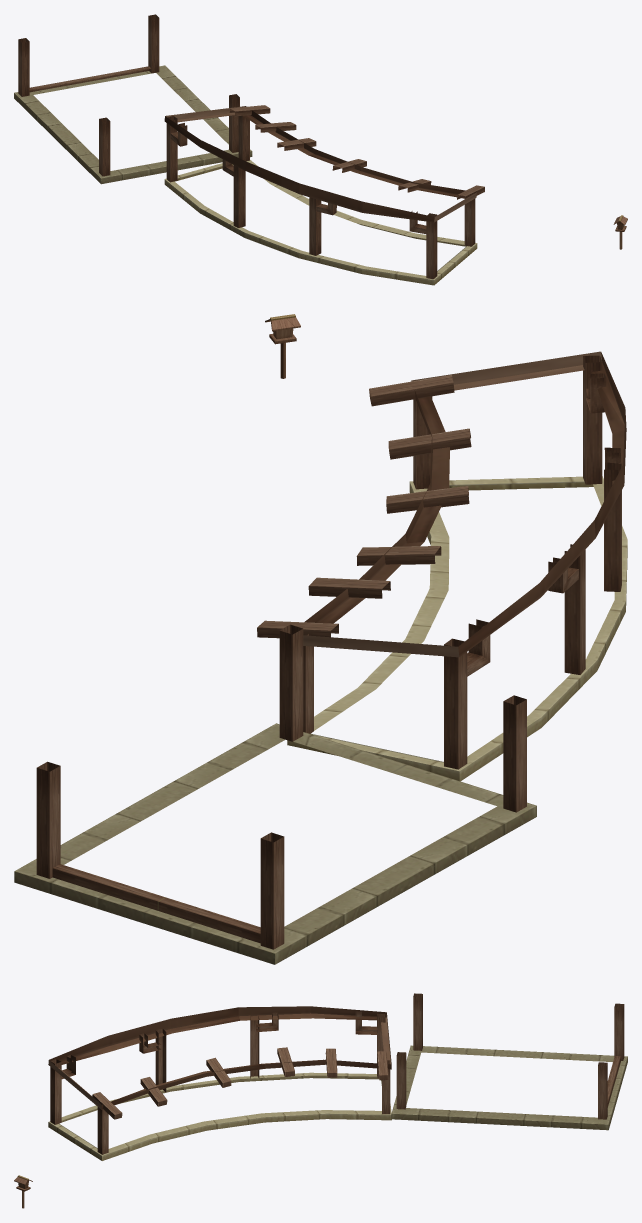
Rendered from Area_12_26.fbx.
3 renders of one model, top to bottom at view 1: azimuth 30°, elevation 25°; view 2: azimuth 150°, elevation 25°; view 3: azimuth 270°, elevation 25°, orthographic. The views are drawn at different scales.
Visible parts, largest first — view 1: Area_12_26; view 2: Area_12_26; view 3: Area_12_26.
Part boxes in pixels (<box>): Area_12_26: <box>14,14,627,285</box>; Area_12_26: <box>14,314,627,964</box>; Area_12_26: <box>14,993,627,1208</box>.
Size of the model in its own units: 2491 by 546 by 4029.
